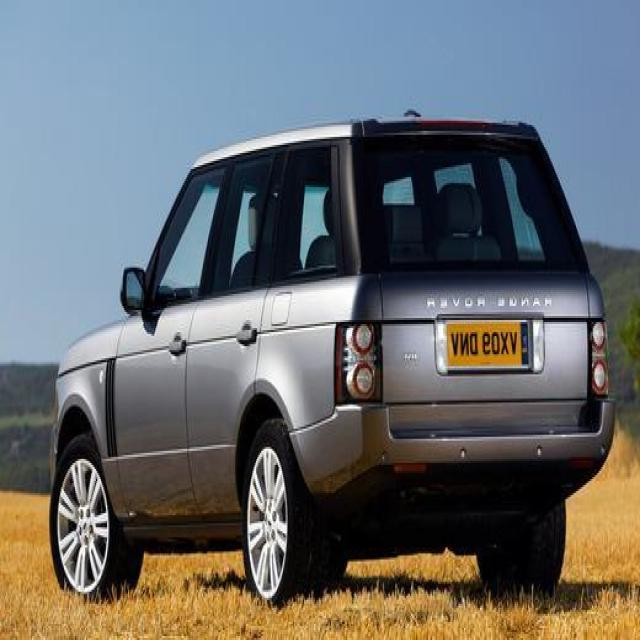Car: (29, 97, 624, 618)
